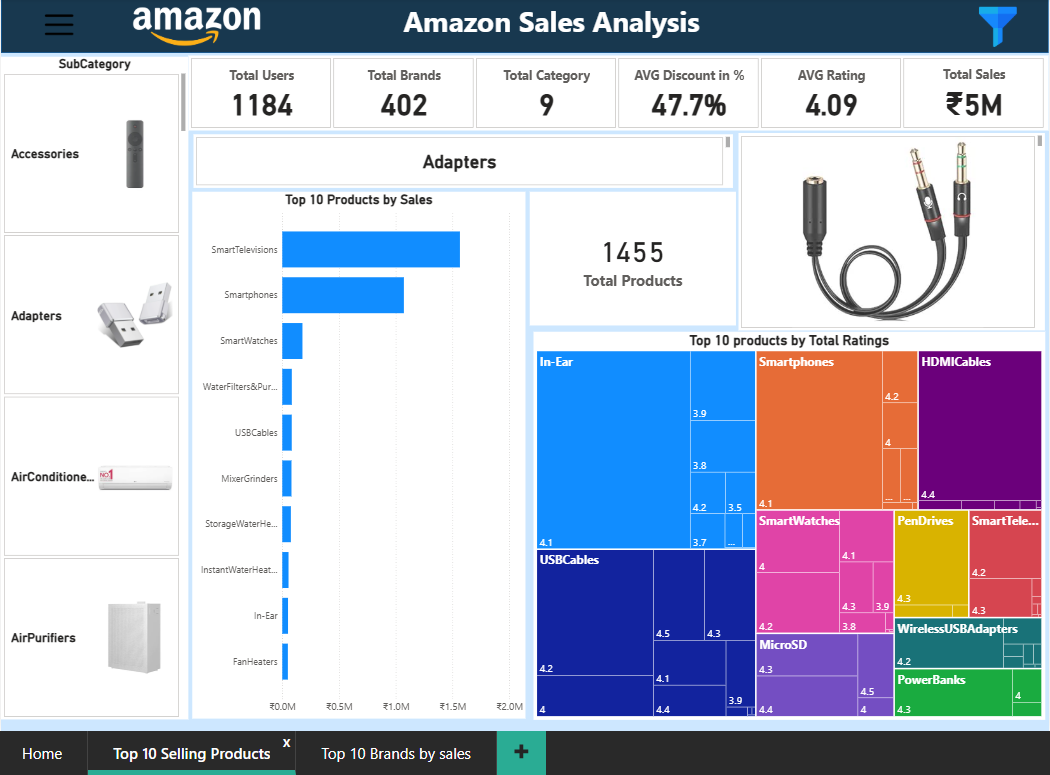

This screenshot's page, from the dashboard's own definition file:
{"tool":"powerbi","page":{"name":"Top 10 Selling Products ","canvas":[2000,1400],"ordinal":1},"visuals":[{"type":"shape","box":[0,0,1999.3,105],"z":0},{"type":"textbox","box":[756.3,2.4,603.6,102.6],"z":1000},{"type":"cardVisual","fields":{"Data":["Count(amazon.user_id)","Count(amazon.Brand Name)","Count(amazon.Category)","Avg(amazon.discount_percentage)","Avg(amazon.rating)","Sum(amazon.discounted_price)"]},"box":[357.9,109.7,1641.5,143.2],"z":2000},{"type":"advancedSlicerVisual","title":"SubCategory","fields":{"Values":["amazon.Sub_Category"]},"box":[0,109.7,357.9,1264.5],"z":3000},{"type":"barChart","title":"Top 10 Products  by Sales ","fields":{"Category":["amazon.Product Name"],"Y":["Sum(amazon.Selling Price)"]},"box":[364.3,369.2,636.4,1005.6],"z":4000},{"type":"image","box":[42.9,19.1,136,64.4],"z":5000},{"type":"treemap","title":"Top 10 products by Total Ratings ","fields":{"Group":["amazon.Product Name"],"Values":["Sum(amazon.rating_count)"],"Details":["amazon.rating"]},"box":[1015.3,636.4,976.5,740.8],"z":8000},{"type":"advancedSlicerVisual","fields":{"Values":["amazon.Product Name"]},"box":[1413.7,257.5,585.4,376.5],"z":9000},{"type":"advancedSlicerVisual","fields":{"Values":["amazon.Product Name"]},"box":[366.8,259.9,1029.9,102],"z":10000},{"type":"card","fields":{"Values":["CountNonNull(amazon.Product Name)"]},"box":[1008,369.2,393.5,255],"z":11000},{"type":"image","box":[230.8,0,284.2,109.3],"z":12000},{"type":"image","box":[1851.7,11.3,101.6,86.6],"z":13000}]}

Visuals, with their boxes on the page's 2000x1400 design canvas (x1, y1, x2, y2). These are canvas units, not pixel positions in the 1050x775 screenshot, which may show the page scaled, cropped or inside an application window:
shape: [0, 0, 1999, 105]
textbox: [756, 2, 1360, 105]
cardVisual - Count(amazon.user_id) x Count(amazon.Brand Name): [358, 110, 1999, 253]
"SubCategory" advancedSlicerVisual: [0, 110, 358, 1374]
"Top 10 Products  by Sales " barChart: [364, 369, 1001, 1375]
image: [43, 19, 179, 84]
"Top 10 products by Total Ratings " treemap: [1015, 636, 1992, 1377]
advancedSlicerVisual - amazon.Product Name: [1414, 258, 1999, 634]
advancedSlicerVisual - amazon.Product Name: [367, 260, 1397, 362]
card - CountNonNull(amazon.Product Name): [1008, 369, 1402, 624]
image: [231, 0, 515, 109]
image: [1852, 11, 1953, 98]
